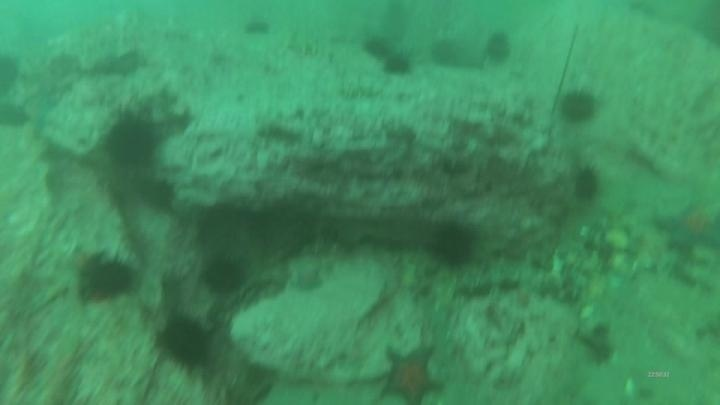echinus: (251, 201, 319, 260), (102, 111, 162, 172), (155, 312, 215, 372), (76, 251, 139, 305), (428, 219, 480, 269), (200, 254, 248, 297), (556, 87, 600, 127), (136, 175, 178, 214), (157, 270, 188, 318), (570, 164, 603, 205), (428, 36, 464, 71), (482, 30, 514, 67), (1, 51, 23, 97), (380, 50, 414, 79), (361, 34, 395, 63), (241, 15, 274, 40)
holothurian: (282, 29, 334, 59), (336, 78, 385, 103)
starfish: (377, 343, 446, 405), (652, 197, 719, 256), (19, 86, 62, 138), (289, 261, 328, 296), (1, 99, 32, 133)
